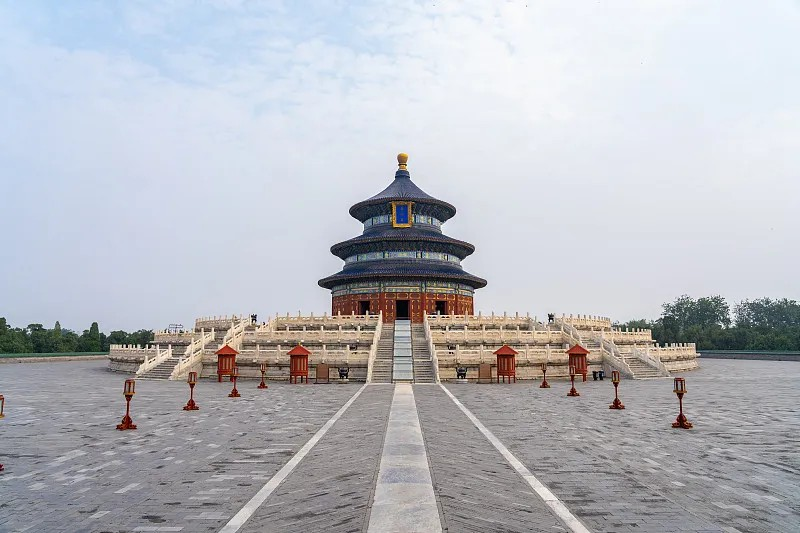Heaven: (318, 152, 488, 326)
